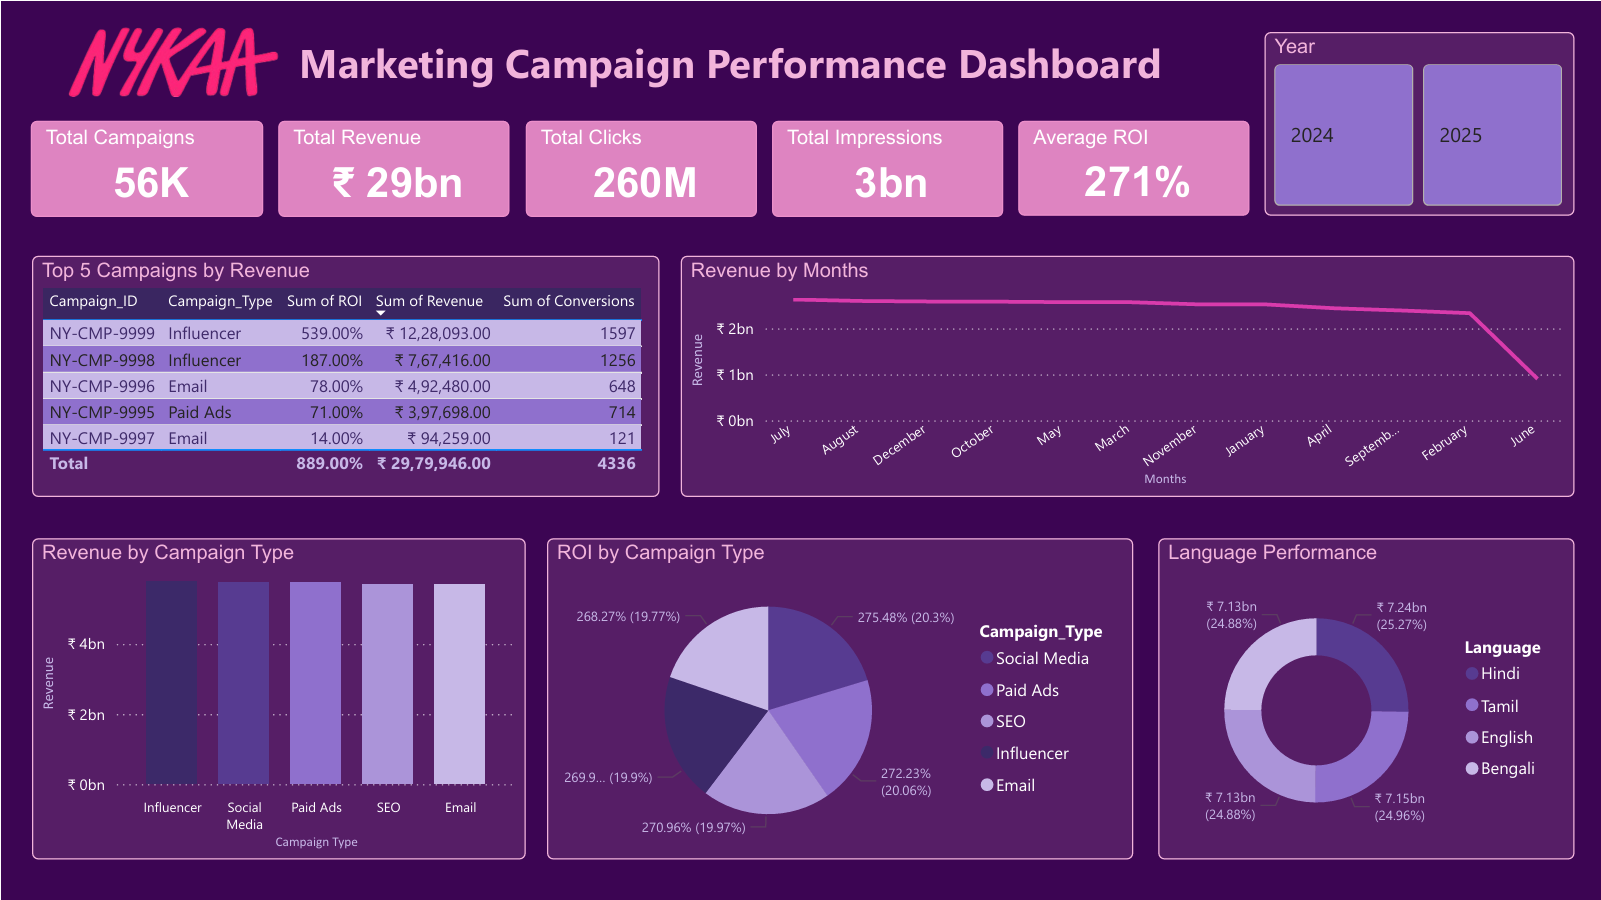

The page's visual inventory and layout, read from the dashboard file:
{"tool":"powerbi","page":{"name":"Page 1","canvas":[1280,720],"ordinal":0},"visuals":[{"type":"textbox","box":[208.8,18.8,733.8,68.8],"z":0},{"type":"card","title":"Total Revenue","fields":{"Values":["Sum(nykaa_campaign_data.Revenue)"]},"box":[220.9,94.7,185.2,76.8],"z":1000},{"type":"card","title":"Total Campaigns","fields":{"Values":["nykaa_campaign_data.Measure"]},"box":[23.3,94.7,185.2,76.8],"z":2000},{"type":"card","title":"Total Impressions","fields":{"Values":["Sum(nykaa_campaign_data.Impressions)"]},"box":[616.1,94.7,185.2,76.8],"z":3000},{"type":"card","title":"Total Clicks","fields":{"Values":["Sum(nykaa_campaign_data.Clicks)"]},"box":[418.5,94.7,185.2,76.8],"z":4000},{"type":"card","title":"Average ROI","fields":{"Values":["Avg(nykaa_campaign_data.ROI)"]},"box":[812.5,95,185,76.2],"z":5000},{"type":"columnChart","title":"Revenue by Campaign Type","fields":{"Category":["nykaa_campaign_data.Campaign_Type"],"Y":["Sum(nykaa_campaign_data.Revenue)"]},"box":[23.8,428.8,395,257.5],"z":6000},{"type":"lineChart","title":"Revenue by Months","fields":{"Y":["Sum(nykaa_campaign_data.Revenue)"],"Category":["nykaa_campaign_data.Months_name"]},"box":[542.5,202.5,715,193.8],"z":7000},{"type":"pieChart","title":"ROI by Campaign Type","fields":{"Category":["nykaa_campaign_data.Campaign_Type"],"Y":["Avg(nykaa_campaign_data.ROI)"]},"box":[436.2,428.8,468.8,257.5],"z":8000},{"type":"tableEx","title":"Top 5 Campaigns by Revenue ","fields":{"Values":["nykaa_campaign_data.Campaign_ID","nykaa_campaign_data.Campaign_Type","Sum(nykaa_campaign_data.ROI)","Sum(nykaa_campaign_data.Revenue)","Sum(nykaa_campaign_data.Conversions)"]},"box":[23.8,202.5,502.5,193.8],"z":9000},{"type":"donutChart","title":"Language Performance ","fields":{"Category":["nykaa_campaign_data.Language"],"Y":["Sum(nykaa_campaign_data.Revenue)"]},"box":[925,428.8,332.5,257.5],"z":9001},{"type":"advancedSlicerVisual","title":"Year","fields":{"Values":["nykaa_campaign_data.Year"]},"box":[1010,23.8,247.5,147.5],"z":9003},{"type":"image","box":[23.8,0,226.2,95],"z":9004}]}

Visuals, with their boxes in screenshot pixels (x1, y1, x2, y2), scaled from the page's 1280x720 canvas onto the 1601x900 screenshot:
textbox: BBox(261, 24, 1179, 110)
"Total Revenue" card: BBox(276, 118, 508, 214)
"Total Campaigns" card: BBox(29, 118, 261, 214)
"Total Impressions" card: BBox(771, 118, 1002, 214)
"Total Clicks" card: BBox(523, 118, 755, 214)
"Average ROI" card: BBox(1016, 119, 1248, 214)
"Revenue by Campaign Type" columnChart: BBox(30, 536, 524, 858)
"Revenue by Months" lineChart: BBox(679, 253, 1573, 495)
"ROI by Campaign Type" pieChart: BBox(546, 536, 1132, 858)
"Top 5 Campaigns by Revenue " tableEx: BBox(30, 253, 658, 495)
"Language Performance " donutChart: BBox(1157, 536, 1573, 858)
"Year" advancedSlicerVisual: BBox(1263, 30, 1573, 214)
image: BBox(30, 0, 313, 119)
